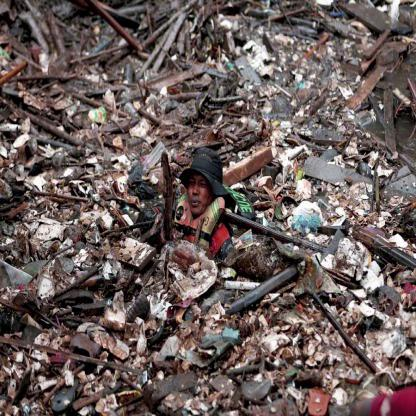Plastic: (126, 291, 149, 322), (87, 102, 105, 124)
Trash: (328, 236, 371, 278), (128, 173, 153, 200), (142, 141, 167, 168), (292, 215, 321, 233)
